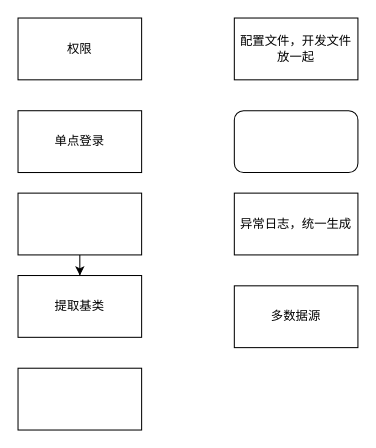
The diagram is 376 pixels wide and 448 high, and some of its shapes have lost their labels. The shapes that lost their labels are listed below. From the top down, each one's centre as x and y in pixels, then its label:
pixel 295 141: 代码生成
pixel 79 223: 缓存
